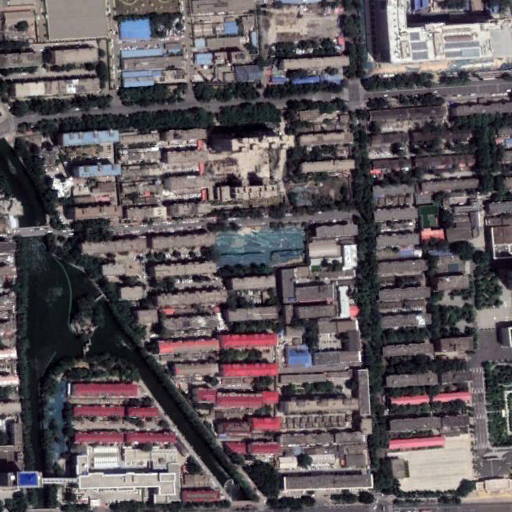cw: (214, 228, 306, 268)
